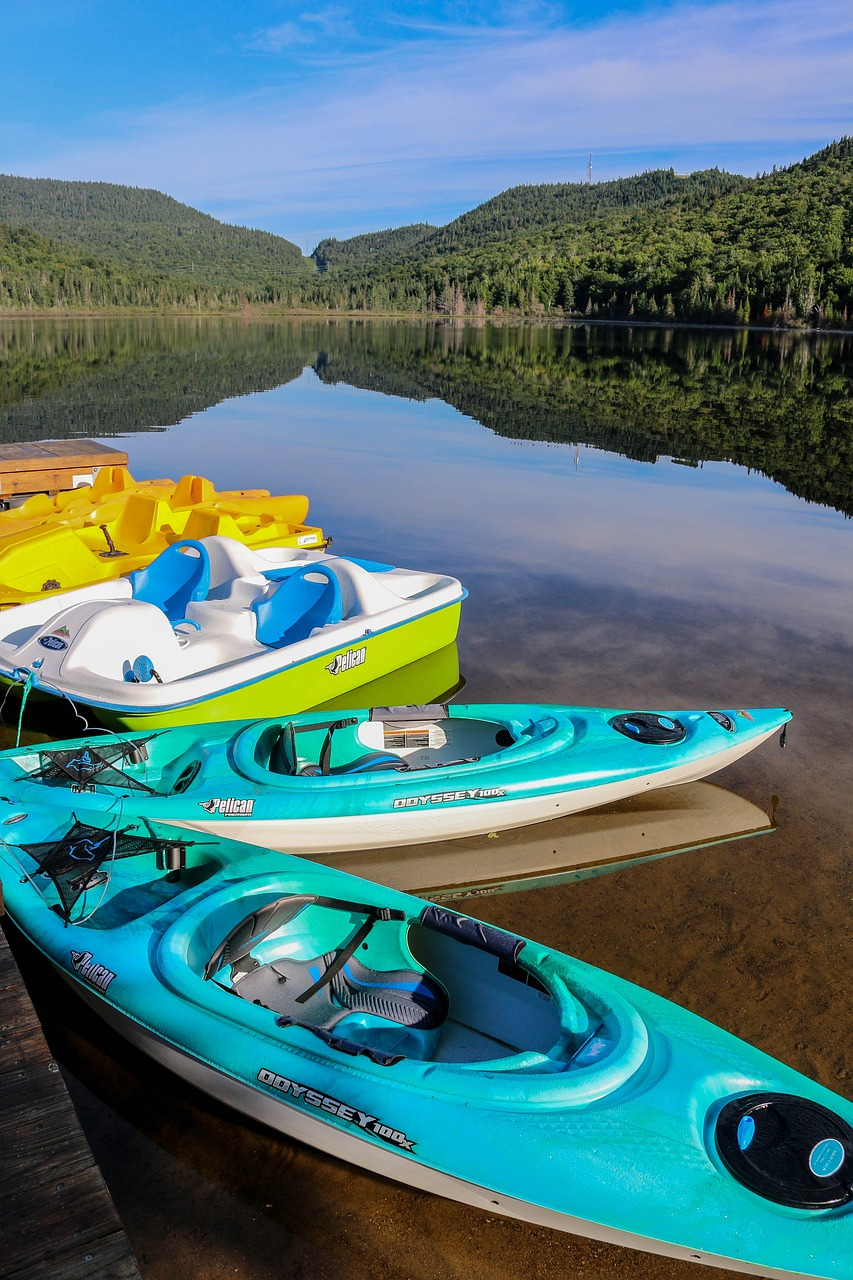kayak: (1, 799, 853, 1279), (1, 693, 807, 859)
